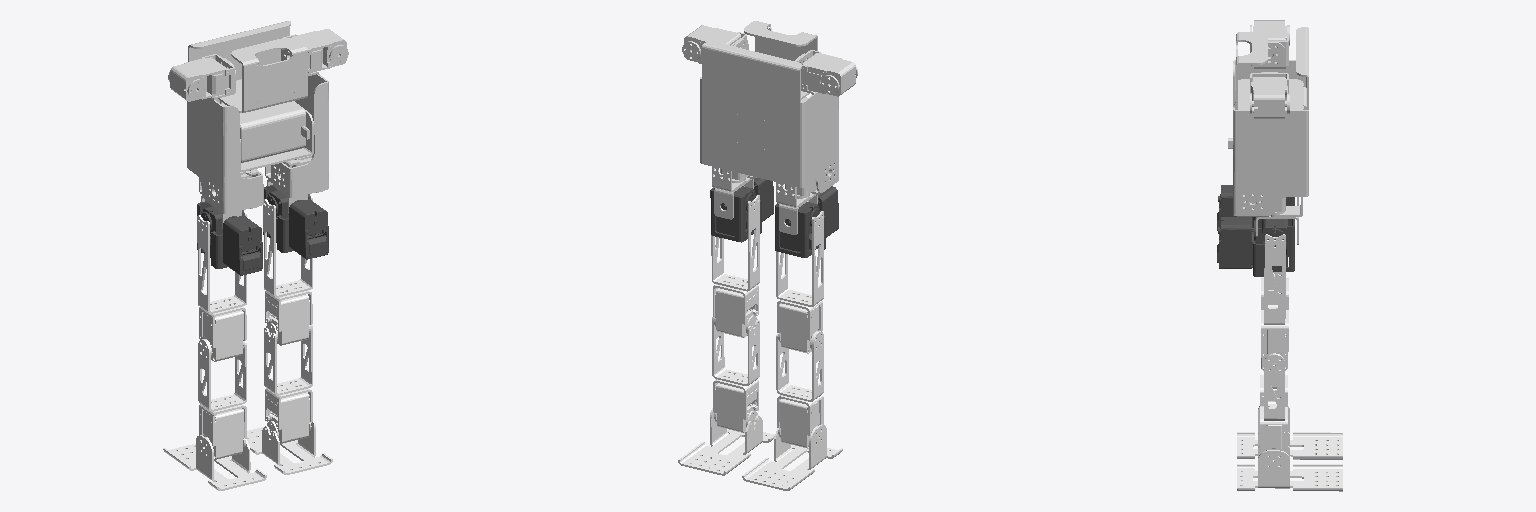
The robot description file, URDF, robot "zeroth":
<robot name="zeroth">
  <link name="base">
    <inertial>
      <origin rpy="0 0 0" xyz="0 0 0" />
      <mass value="0.001" />
      <inertia ixx="0.0001" ixy="0" ixz="0" iyy="0.0001" iyz="0" izz="0.0001" />
    </inertial>
  </link>
  <joint name="floating_base" type="fixed">
    <origin rpy="0 0 0" xyz="0 0 0" />
    <parent link="base" />
    <child link="Part_76" />
  </joint>
  <link name="Part_76">
    <visual>
      <origin xyz="0 0 0" rpy="0 0 0" />
      <geometry>
        <mesh filename="meshes/Part_76.stl" />
      </geometry>
      <material name="Part_76_material">
        <color rgba="0.91764706 0.91764706 0.91764706 1" />
      </material>
    </visual>
    <collision>
      <origin xyz="0 0 0" rpy="0 0 0" />
      <geometry>
        <mesh filename="meshes/Part_76.stl" />
      </geometry>
    </collision>
    <inertial>
      <mass value="1.6659521039999996" />
      <inertia ixx="0.003594519079383798" iyy="0.00525902593913726" izz="0.003303800123995831" ixy="4.700328339385156e-08" ixz="1.2617572933798065e-07" iyz="-0.00029072813799480826" />
      <origin xyz="1.3715674692216277e-05 -0.007508036503697799 -0.000703849283574139" rpy="0 0 0" />
    </inertial>
  </link>
  <joint name="left_hip_roll" type="revolute">
    <origin xyz="-0.0353001417379795 -0.0036199730613269685 -0.07354320094310968" rpy="-0.005235926794896062 2.67948967458409e-08 0.0" />
    <parent link="Part_76" />
    <child link="Rotor" />
    <limit effort="10" velocity="10" lower="-0.78539816" upper="0.78539816" />
    <axis xyz="0 0 1" />
  </joint>
  <link name="Rotor">
    <visual>
      <origin xyz="0 0 0" rpy="0 0 0" />
      <geometry>
        <mesh filename="meshes/Rotor.stl" />
      </geometry>
      <material name="Rotor_material">
        <color rgba="0.91764706 0.91764706 0.91764706 1" />
      </material>
    </visual>
    <collision>
      <origin xyz="0 0 0" rpy="0 0 0" />
      <geometry>
        <mesh filename="meshes/Rotor.stl" />
      </geometry>
    </collision>
    <inertial>
      <mass value="0.052774531" />
      <inertia ixx="3.0928812751456034e-05" iyy="2.2245909792798926e-05" izz="1.2651261419472649e-05" ixy="-4.2326792188443465e-10" ixz="-9.23448453238186e-10" iyz="-4.861048798725412e-06" />
      <origin xyz="-1.1707692728183507e-06 0.011381128084104328 0.0051042218699669534" rpy="0 0 0" />
    </inertial>
  </link>
  <joint name="right_hip_roll" type="revolute">
    <origin xyz="0.035299859288700844 -0.0036199727372057573 -0.0735432024963366" rpy="-0.005235980384690442 -2.6794896301751692e-08 2.220446049250313e-16" />
    <parent link="Part_76" />
    <child link="Rotor_2" />
    <limit effort="10" velocity="10" lower="-0.78539816" upper="0.78539816" />
    <axis xyz="0 0 1" />
  </joint>
  <link name="Rotor_2">
    <visual>
      <origin xyz="0 0 0" rpy="0 0 0" />
      <geometry>
        <mesh filename="meshes/Rotor_2.stl" />
      </geometry>
      <material name="Rotor_material_2">
        <color rgba="0.91764706 0.91764706 0.91764706 1" />
      </material>
    </visual>
    <collision>
      <origin xyz="0 0 0" rpy="0 0 0" />
      <geometry>
        <mesh filename="meshes/Rotor_2.stl" />
      </geometry>
    </collision>
    <inertial>
      <mass value="0.052774531" />
      <inertia ixx="3.0928812751456034e-05" iyy="2.2245909792798926e-05" izz="1.2651261419472649e-05" ixy="4.2326792188443465e-10" ixz="9.23448453238186e-10" iyz="-4.861048798725412e-06" />
      <origin xyz="1.1707692728183507e-06 0.011381128084104328 0.0051042218699669534" rpy="0 0 0" />
    </inertial>
  </link>
  <joint name="left_hip_yaw" type="revolute">
    <origin xyz="0.0 -0.018009991 -0.020898149999999997" rpy="-1.5707963000000003 0.0 0.0" />
    <parent link="Rotor" />
    <child link="Robot_-_STS3250_v1" />
    <limit effort="10" velocity="10" lower="-0.087266463" upper="1.5707963" />
    <axis xyz="0 0 1" />
  </joint>
  <link name="Robot_-_STS3250_v1">
    <visual>
      <origin xyz="0 0 0" rpy="0 0 0" />
      <geometry>
        <mesh filename="meshes/Robot_-_STS3250_v1.stl" />
      </geometry>
      <material name="Robot_-_STS3250_v1_material">
        <color rgba="0.4 0.4 0.4 1" />
      </material>
    </visual>
    <collision>
      <origin xyz="0 0 0" rpy="0 0 0" />
      <geometry>
        <mesh filename="meshes/Robot_-_STS3250_v1.stl" />
      </geometry>
    </collision>
    <inertial>
      <mass value="0.19823244299999998" />
      <inertia ixx="0.0001288980214027335" iyy="0.00011253897850565667" izz="6.812320840034133e-05" ixy="1.4352694073733687e-07" ixz="-1.5280675037644813e-06" iyz="3.6720970870327294e-06" />
      <origin xyz="0.0005040107458805387 0.012493056289452048 0.005414764301705825" rpy="0 0 0" />
    </inertial>
  </link>
  <joint name="right_hip_yaw" type="revolute">
    <origin xyz="0.0 -0.018009991 -0.020898149999999997" rpy="-1.5707963000000003 0.0 0.0" />
    <parent link="Rotor_2" />
    <child link="Robot_-_STS3250_v1_2" />
    <limit effort="10" velocity="10" lower="-1.5707963" upper="0.087266463" />
    <axis xyz="0 0 1" />
  </joint>
  <link name="Robot_-_STS3250_v1_2">
    <visual>
      <origin xyz="0 0 0" rpy="0 0 0" />
      <geometry>
        <mesh filename="meshes/Robot_-_STS3250_v1_2.stl" />
      </geometry>
      <material name="Robot_-_STS3250_v1_material_2">
        <color rgba="0.4 0.4 0.4 1" />
      </material>
    </visual>
    <collision>
      <origin xyz="0 0 0" rpy="0 0 0" />
      <geometry>
        <mesh filename="meshes/Robot_-_STS3250_v1_2.stl" />
      </geometry>
    </collision>
    <inertial>
      <mass value="0.19823244299999998" />
      <inertia ixx="0.00012890693486123327" iyy="0.00011253901558957325" izz="6.813208890852665e-05" ixy="-1.4371132538002443e-07" ixz="1.5280688961005715e-06" iyz="3.709121595090582e-06" />
      <origin xyz="-0.0005040104376827078 0.012486710104734879 0.005414768088342292" rpy="0 0 0" />
    </inertial>
  </link>
  <joint name="left_hip_pitch" type="revolute">
    <origin xyz="0.018525040302885504 -4.922427119732897e-07 0.0183599908378569" rpy="1.570796353589794 4.641020678874952e-08 -1.5707963000000005" />
    <parent link="Robot_-_STS3250_v1" />
    <child link="leg_top_bracket_v9" />
    <limit effort="10" velocity="10" lower="-1.5707963" upper="1.5707963" />
    <axis xyz="0 0 1" />
  </joint>
  <link name="leg_top_bracket_v9">
    <visual>
      <origin xyz="0 0 0" rpy="0 0 0" />
      <geometry>
        <mesh filename="meshes/leg_top_bracket_v9.stl" />
      </geometry>
      <material name="leg_top_bracket_v9_material">
        <color rgba="1 1 1 1" />
      </material>
    </visual>
    <collision>
      <origin xyz="0 0 0" rpy="0 0 0" />
      <geometry>
        <mesh filename="meshes/leg_top_bracket_v9.stl" />
      </geometry>
    </collision>
    <inertial>
      <mass value="0.15518776699999998" />
      <inertia ixx="4.40152180954293e-05" iyy="0.0002576754462750278" izz="0.00023180573068698357" ixy="-4.141837560052671e-09" ixz="1.9547900790093517e-06" iyz="7.458007339959379e-11" />
      <origin xyz="-0.09027963177901355 -9.619865716231399e-07 0.01932045131266413" rpy="0 0 0" />
    </inertial>
  </link>
  <joint name="right_hip_pitch" type="revolute">
    <origin xyz="0.01852495960295464 -4.235463209323331e-09 0.018359997984461623" rpy="-1.5707963535897924 -4.64102059005711e-08 1.5707963000000003" />
    <parent link="Robot_-_STS3250_v1_2" />
    <child link="leg_top_bracket_v9_2" />
    <limit effort="10" velocity="10" lower="-1.5707963" upper="1.5707963" />
    <axis xyz="0 0 1" />
  </joint>
  <link name="leg_top_bracket_v9_2">
    <visual>
      <origin xyz="0 0 0" rpy="0 0 0" />
      <geometry>
        <mesh filename="meshes/leg_top_bracket_v9_2.stl" />
      </geometry>
      <material name="leg_top_bracket_v9_material_2">
        <color rgba="1 1 1 1" />
      </material>
    </visual>
    <collision>
      <origin xyz="0 0 0" rpy="0 0 0" />
      <geometry>
        <mesh filename="meshes/leg_top_bracket_v9_2.stl" />
      </geometry>
    </collision>
    <inertial>
      <mass value="0.15518776699999998" />
      <inertia ixx="4.402055552142148e-05" iyy="0.000257680775231911" izz="0.00023180572221725754" ixy="-4.137676641118504e-09" ixz="2.1781725509883785e-06" iyz="7.987596359321841e-11" />
      <origin xyz="0.0902796310599843 9.61020000592584e-07 0.018365400961737083" rpy="0 0 0" />
    </inertial>
  </link>
  <joint name="left_knee_pitch" type="revolute">
    <origin xyz="-0.12916282413730715 -1.9999999954778414e-09 0.0372749282506018" rpy="0.0 0.0 0.0" />
    <parent link="leg_top_bracket_v9" />
    <child link="leg_top_bracket_v8_1" />
    <limit effort="10" velocity="10" lower="-1.57" upper="0" />
    <axis xyz="0 0 -1" />
  </joint>
  <link name="leg_top_bracket_v8_1">
    <visual>
      <origin xyz="0 0 0" rpy="0 0 0" />
      <geometry>
        <mesh filename="meshes/leg_top_bracket_v8_1.stl" />
      </geometry>
      <material name="leg_top_bracket_v8_1_material">
        <color rgba="1 1 1 1" />
      </material>
    </visual>
    <collision>
      <origin xyz="0 0 0" rpy="0 0 0" />
      <geometry>
        <mesh filename="meshes/leg_top_bracket_v8_1.stl" />
      </geometry>
    </collision>
    <inertial>
      <mass value="0.14284619399999998" />
      <inertia ixx="3.797592496450627e-05" iyy="0.00014832933202230754" izz="0.00012744533964232057" ixy="-3.0129096618860415e-09" ixz="-1.4953568530857623e-06" iyz="5.8428009555147734e-12" />
      <origin xyz="-0.06877406876791146 -1.0761506499492685e-06 -0.017703540131795367" rpy="0 0 0" />
    </inertial>
  </link>
  <joint name="right_knee_pitch" type="revolute">
    <origin xyz="0.12916282526269282 1.999999997212565e-09 0.0003749122493981972" rpy="-3.1415926071795863 0.0 0.0" />
    <parent link="leg_top_bracket_v9_2" />
    <child link="leg_top_bracket_v8_1_2" />
    <limit effort="10" velocity="10" lower="0" upper="1.57" />
    <axis xyz="0 0 -1" />
  </joint>
  <link name="leg_top_bracket_v8_1_2">
    <visual>
      <origin xyz="0 0 0" rpy="0 0 0" />
      <geometry>
        <mesh filename="meshes/leg_top_bracket_v8_1_2.stl" />
      </geometry>
      <material name="leg_top_bracket_v8_1_material_2">
        <color rgba="1 1 1 1" />
      </material>
    </visual>
    <collision>
      <origin xyz="0 0 0" rpy="0 0 0" />
      <geometry>
        <mesh filename="meshes/leg_top_bracket_v8_1_2.stl" />
      </geometry>
    </collision>
    <inertial>
      <mass value="0.14284619399999998" />
      <inertia ixx="3.797494468858281e-05" iyy="0.0001483283574247835" izz="0.00012744534632391704" ixy="3.037412258479129e-09" ixz="1.3479314832646434e-06" iyz="1.0823172083825887e-11" />
      <origin xyz="0.06877407089321254 -1.0831521767993736e-06 -0.017633978573914535" rpy="0 0 0" />
    </inertial>
  </link>
  <joint name="left_ankle_pitch" type="revolute">
    <origin xyz="-0.09999999473730714 -3.719999999707291e-08 -7.499219426298359e-05" rpy="-3.1415926071795863 0.0 0.0" />
    <parent link="leg_top_bracket_v8_1" />
    <child link="foot_bracket_for_5dof_leg_v9" />
    <limit effort="10" velocity="10" lower="-1.5707963" upper="1.5707963" />
    <axis xyz="0 0 1" />
  </joint>
  <link name="foot_bracket_for_5dof_leg_v9">
    <visual>
      <origin xyz="0 0 0" rpy="0 0 0" />
      <geometry>
        <mesh filename="meshes/foot_bracket_for_5dof_leg_v9.stl" />
      </geometry>
      <material name="foot_bracket_for_5dof_leg_v9_material">
        <color rgba="1 1 1 1" />
      </material>
    </visual>
    <collision>
      <origin xyz="0 0 0" rpy="0 0 0" />
      <geometry>
        <mesh filename="meshes/foot_bracket_for_5dof_leg_v9.stl" />
      </geometry>
    </collision>
    <inertial>
      <mass value="0.09911156" />
      <inertia ixx="0.00010319248" iyy="3.7444559e-05" izz="8.358988e-05" ixy="-6.3817294e-06" ixz="2.1688004e-06" iyz="0" />
      <origin xyz="-0.02364449 -0.012772993 0.017738481" rpy="0 0 0" />
    </inertial>
  </link>
  <joint name="right_ankle_pitch" type="revolute">
    <origin xyz="0.09999999915897508 -5.7487026731006386e-08 2.5007553905526114e-05" rpy="-3.141592607179616 2.6794969798515922e-08 -5.535897937836154e-07" />
    <parent link="leg_top_bracket_v8_1_2" />
    <child link="foot_bracket_for_5dof_leg_v9_2" />
    <limit effort="10" velocity="10" lower="-1.5707963" upper="1.5707963" />
    <axis xyz="0 0 1" />
  </joint>
  <link name="foot_bracket_for_5dof_leg_v9_2">
    <visual>
      <origin xyz="0 0 0" rpy="0 0 0" />
      <geometry>
        <mesh filename="meshes/foot_bracket_for_5dof_leg_v9_2.stl" />
      </geometry>
      <material name="foot_bracket_for_5dof_leg_v9_material_2">
        <color rgba="1 1 1 1" />
      </material>
    </visual>
    <collision>
      <origin xyz="0 0 0" rpy="0 0 0" />
      <geometry>
        <mesh filename="meshes/foot_bracket_for_5dof_leg_v9_2.stl" />
      </geometry>
    </collision>
    <inertial>
      <mass value="0.09911156" />
      <inertia ixx="0.00010319248" iyy="3.7444559e-05" izz="8.358988e-05" ixy="6.3817294e-06" ixz="-2.1688004e-06" iyz="0" />
      <origin xyz="0.02364449 -0.012772993 0.017738481" rpy="0 0 0" />
    </inertial>
  </link>
</robot>

--- Facts derived from the render (not from the file) ---
Views: 3 orthographic renders of the robot side by side, from view 1: azimuth 30°, elevation 25°; view 2: azimuth 150°, elevation 25°; view 3: azimuth 270°, elevation 25°.
Robot: zeroth — 12 links, 11 joints (10 revolute, 1 fixed); root link base; default pose: all joints at 0.
Links seen in each view (by area): view 1: Part_76, leg_top_bracket_v9_2, leg_top_bracket_v8_1_2, leg_top_bracket_v9, leg_top_bracket_v8_1, Robot_-_STS3250_v1, Robot_-_STS3250_v1_2, foot_bracket_for_5dof_leg_v9, foot_bracket_for_5dof_leg_v9_2; view 2: Part_76, leg_top_bracket_v9_2, leg_top_bracket_v9, leg_top_bracket_v8_1, leg_top_bracket_v8_1_2, foot_bracket_for_5dof_leg_v9, foot_bracket_for_5dof_leg_v9_2, Robot_-_STS3250_v1, Robot_-_STS3250_v1_2, Rotor_2, Rotor; view 3: Part_76, Robot_-_STS3250_v1_2, foot_bracket_for_5dof_leg_v9_2, leg_top_bracket_v9_2, leg_top_bracket_v8_1_2, foot_bracket_for_5dof_leg_v9, Robot_-_STS3250_v1.
Link boxes in pixels (x1,y1,x2,y2): Part_76: (168, 21, 348, 214); leg_top_bracket_v9_2: (263, 196, 312, 345); leg_top_bracket_v8_1_2: (264, 324, 312, 443); leg_top_bracket_v9: (197, 212, 246, 361); leg_top_bracket_v8_1: (198, 339, 246, 459); Robot_-_STS3250_v1: (197, 201, 262, 275); Robot_-_STS3250_v1_2: (263, 185, 328, 259); foot_bracket_for_5dof_leg_v9: (163, 435, 266, 490); foot_bracket_for_5dof_leg_v9_2: (246, 418, 332, 474); Part_76: (682, 21, 857, 198); leg_top_bracket_v9_2: (711, 195, 759, 337); leg_top_bracket_v9: (776, 211, 823, 353); leg_top_bracket_v8_1: (776, 331, 823, 448); leg_top_bracket_v8_1_2: (712, 317, 759, 432); foot_bracket_for_5dof_leg_v9: (742, 424, 842, 490); foot_bracket_for_5dof_leg_v9_2: (678, 408, 774, 475); Robot_-_STS3250_v1: (775, 186, 838, 257); Robot_-_STS3250_v1_2: (710, 178, 773, 242); Rotor_2: (712, 167, 753, 219); Rotor: (776, 182, 817, 234); Part_76: (1228, 20, 1308, 216); Robot_-_STS3250_v1_2: (1217, 217, 1294, 276); foot_bracket_for_5dof_leg_v9_2: (1237, 446, 1342, 491); leg_top_bracket_v9_2: (1261, 234, 1288, 370); leg_top_bracket_v8_1_2: (1260, 354, 1287, 465); foot_bracket_for_5dof_leg_v9: (1237, 406, 1342, 459); Robot_-_STS3250_v1: (1217, 185, 1294, 230).
Bounding box of the posed robot: 0.172 × 0.1185 × 0.4327 m (x, y, z).
11 mesh visuals loaded from 11 distinct referenced files (11 binary STL).